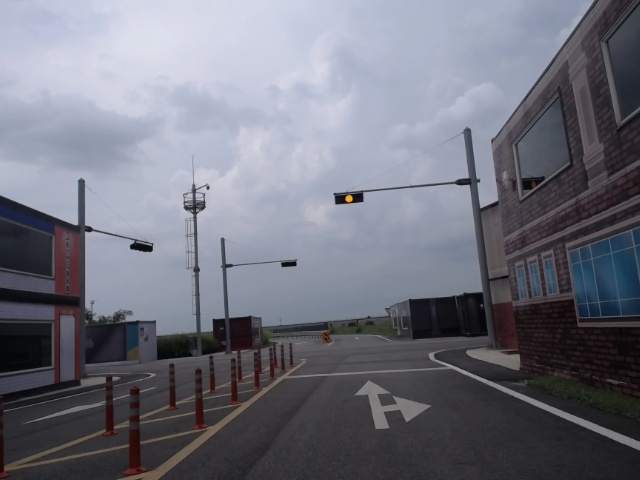orange_3: (335, 192, 364, 204)
